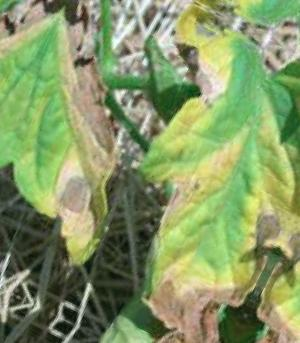Tomato Early blight leaf: (73, 17, 300, 343), (0, 12, 176, 275)
